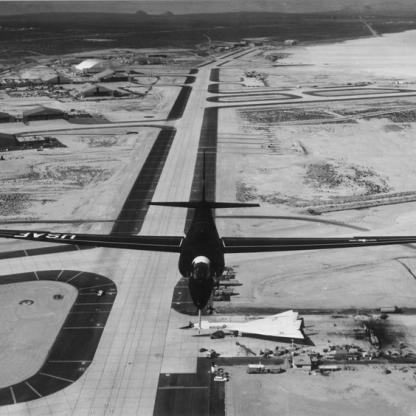U2: (2, 149, 416, 336)
XB70: (175, 310, 307, 340)
